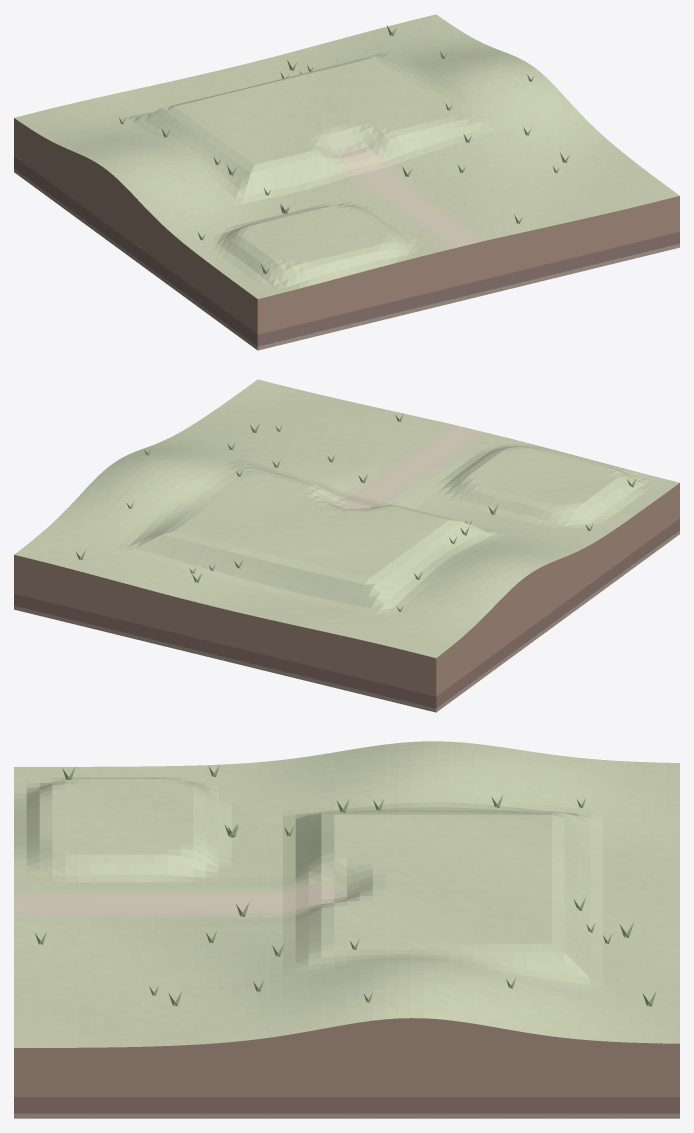
3 renders of one model, top to bottom at view 1: azimuth 30°, elevation 25°; view 2: azimuth 150°, elevation 25°; view 3: azimuth 270°, elevation 25°, orthographic. The views are drawn at different scales.
Parts seen in each view (by area): view 1: proc_ground, proc_skirt, proc_grass; view 2: proc_ground, proc_skirt, proc_grass; view 3: proc_ground, proc_skirt, proc_grass.
Part boxes in pixels (bbox=[...]): proc_ground: bbox=[14, 14, 679, 298]; proc_skirt: bbox=[14, 118, 679, 350]; proc_grass: bbox=[119, 25, 569, 274]; proc_ground: bbox=[14, 379, 679, 657]; proc_skirt: bbox=[14, 483, 679, 712]; proc_grass: bbox=[76, 414, 636, 611]; proc_ground: bbox=[14, 741, 679, 1047]; proc_skirt: bbox=[14, 1018, 679, 1118]; proc_grass: bbox=[35, 765, 656, 1006].
Size of the model in its own units: 8 by 1.5 by 8.
